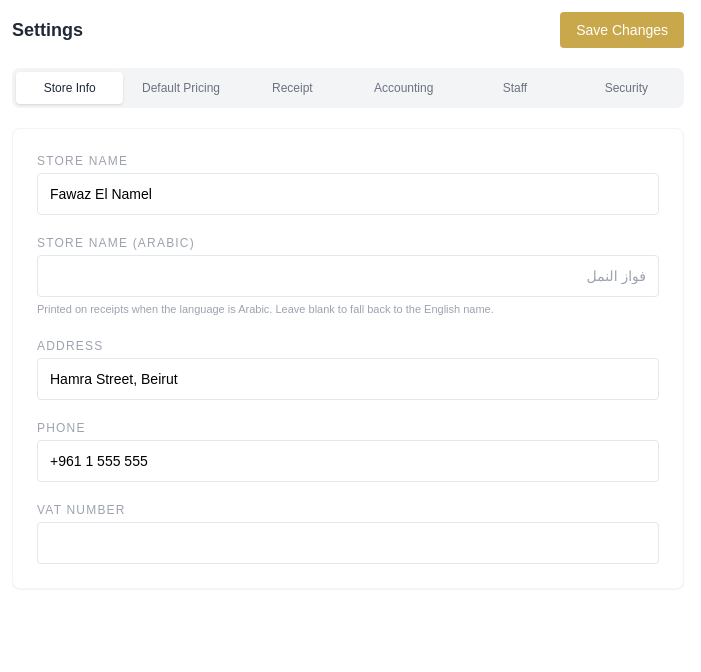
Test case: settings › Save Changes says when it fails (NEX-64) › a save that then succeeds clears the error and refreshes the settings
Click the button "Save Changes" at [622, 30], box [560,12,684,48]
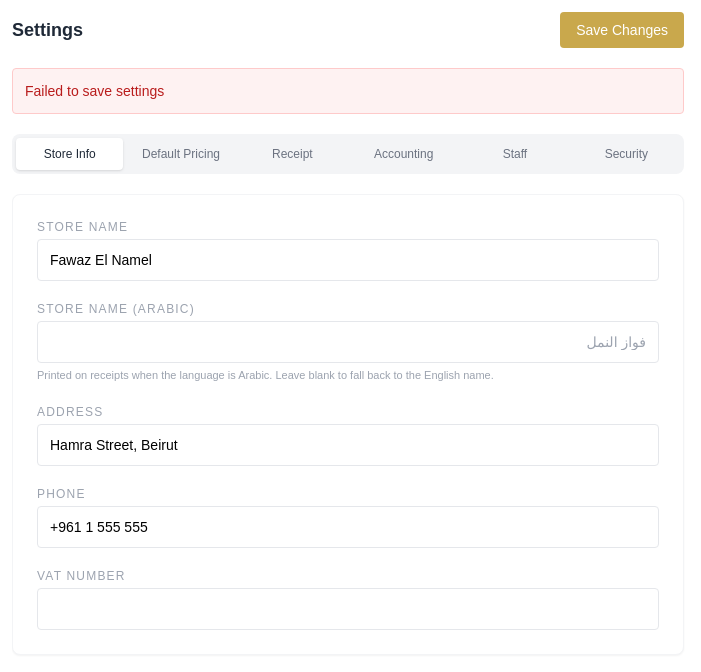
expect the message reads "Failed to save settings": met, box [25,83,164,99]
Click the button "Save Changes" at [622, 30], box [560,12,684,48]
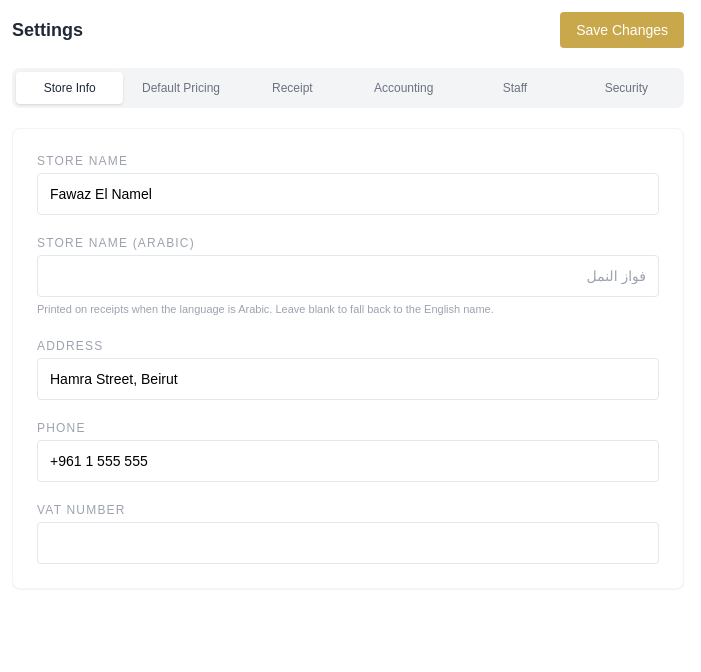
expect the message "Failed to save settings" is gone: met
